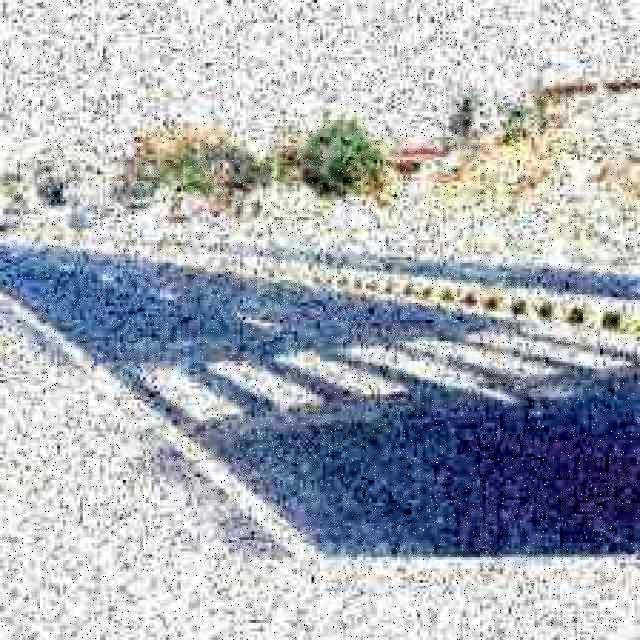crosswalk: (6, 287, 635, 485)
